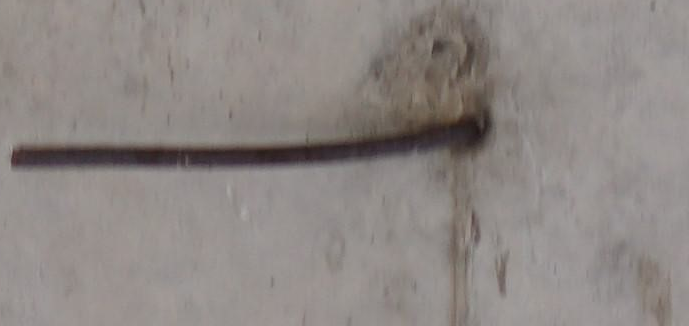Exposed reinforcement: (10, 113, 483, 170)
Spalling: (361, 4, 490, 105)
